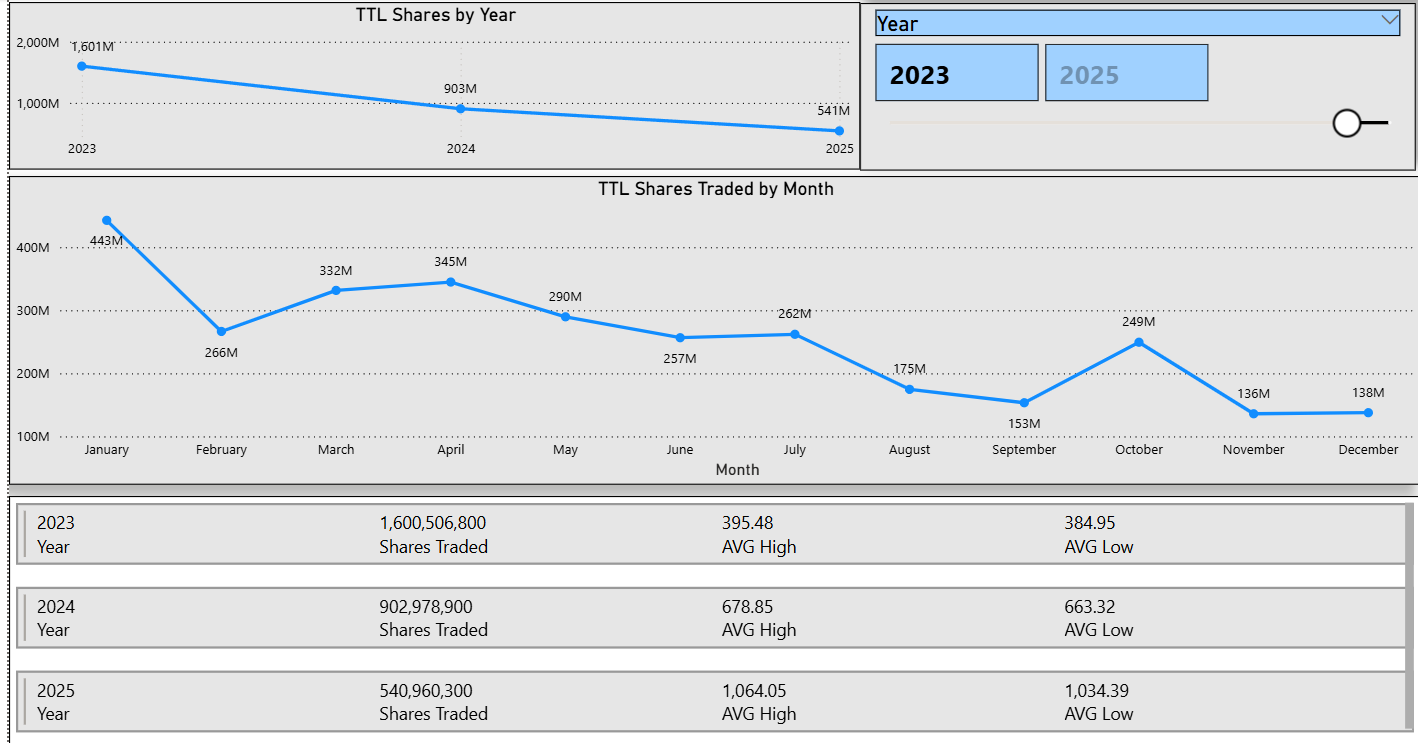

The page's visual inventory and layout, read from the dashboard file:
{"tool":"powerbi","page":{"name":"Annual Shares","canvas":[1280,720],"ordinal":0},"visuals":[{"type":"lineChart","fields":{"Y":["Sum(NetflixStock.Volume)"],"Category":["NetflixStock.Month"]},"box":[0,161.6,1280.3,280.1],"z":0},{"type":"slicer","fields":{"Values":["NetflixStock.Year"]},"box":[771.8,4.4,503.5,152.2],"z":1000},{"type":"multiRowCard","fields":{"Values":["NetflixStock.Year","Sum(NetflixStock.Volume)","Avg(NetflixStock.High)","Avg(NetflixStock.Low)"]},"box":[0,452,1280,229.3],"z":2001},{"type":"lineChart","fields":{"Category":["NetflixStock.Year"],"Y":["Sum(NetflixStock.Volume)"]},"box":[0,4,772,152],"z":2002}]}

Visuals, with their boxes on the page's 1280x720 design canvas (x1, y1, x2, y2). These are canvas units, not pixel positions in the 1418x743 screenshot, which may show the page scaled, cropped or inside an application window:
lineChart - Sum(NetflixStock.Volume) x NetflixStock.Month: (left=0, top=162, right=1280, bottom=442)
slicer - NetflixStock.Year: (left=772, top=4, right=1275, bottom=157)
multiRowCard - NetflixStock.Year x Sum(NetflixStock.Volume): (left=0, top=452, right=1280, bottom=681)
lineChart - NetflixStock.Year x Sum(NetflixStock.Volume): (left=0, top=4, right=772, bottom=156)
